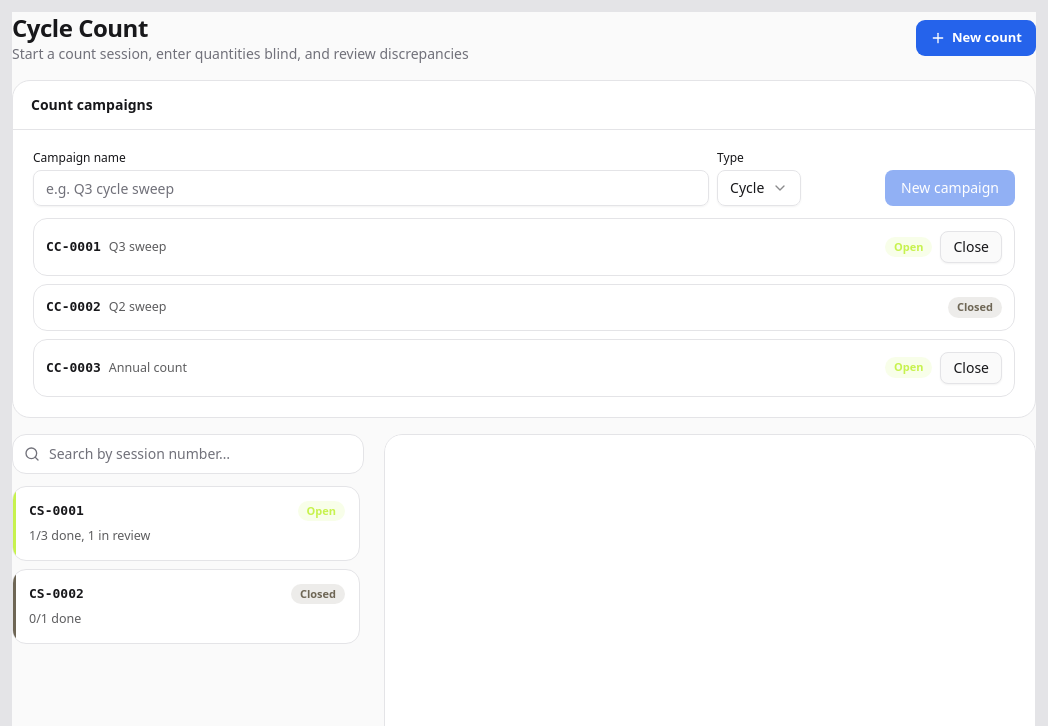
CycleCountPage › campaigns card (St1) › expanding a row fetches and shows its rollup line
The image size is (1048, 726).
Step 1. Click the button with test id "campaign-toggle-5" → {"x": 73, "y": 247}, box [46, 237, 877, 257]
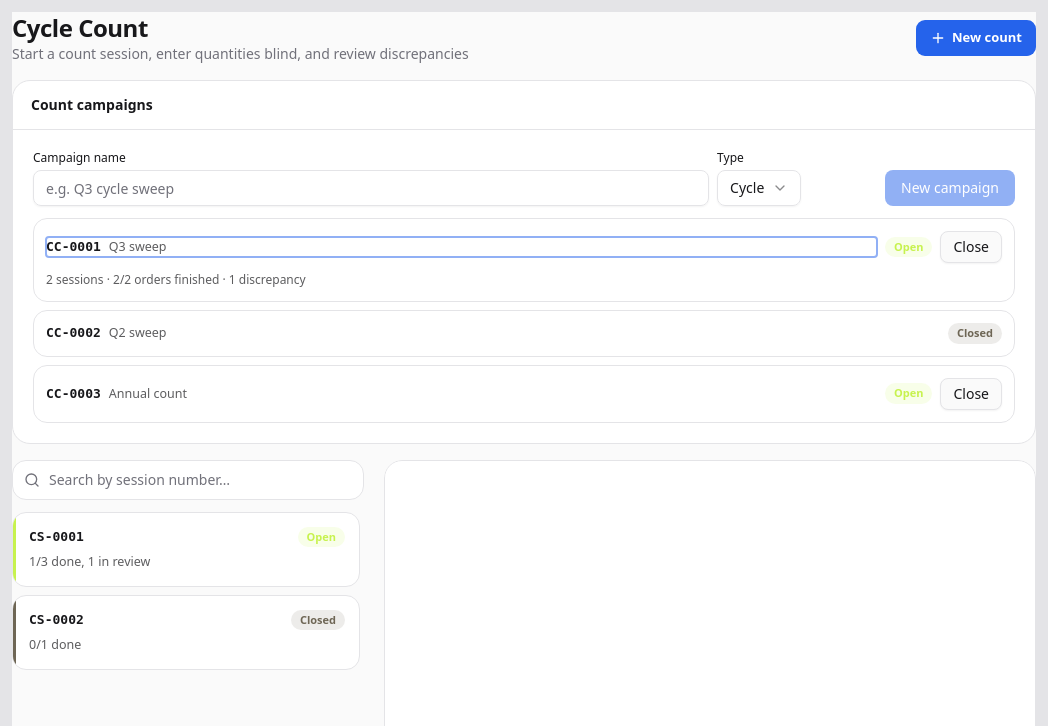
Check: the text with test id "campaign-rollup-5" reads "2 sessions · 2/2 orders finished · 1 discrepancy", box [46, 271, 306, 288]
